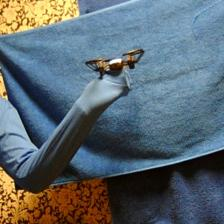drone: (85, 48, 145, 76)
